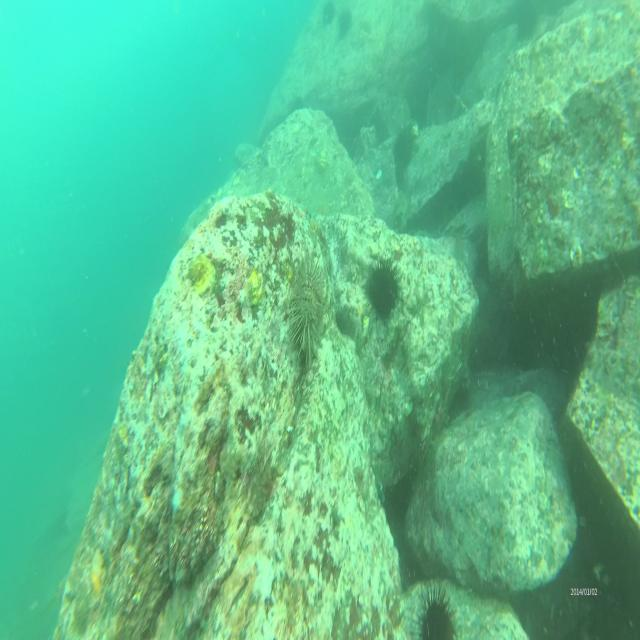echinus: (291, 240, 329, 372), (407, 576, 460, 640), (364, 248, 404, 325), (393, 119, 417, 178), (446, 384, 470, 423), (336, 0, 354, 39), (320, 0, 337, 28)
scallop: (181, 248, 219, 292), (244, 261, 268, 306)
